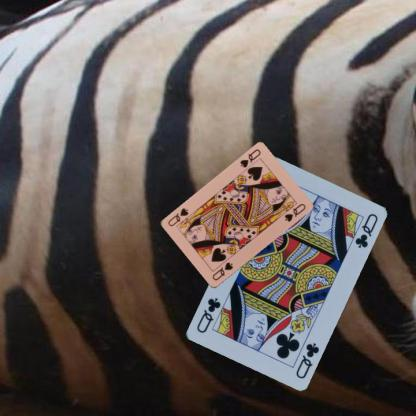Qc: (293, 340, 321, 380)
Qs: (237, 147, 262, 169), (210, 260, 234, 282)
